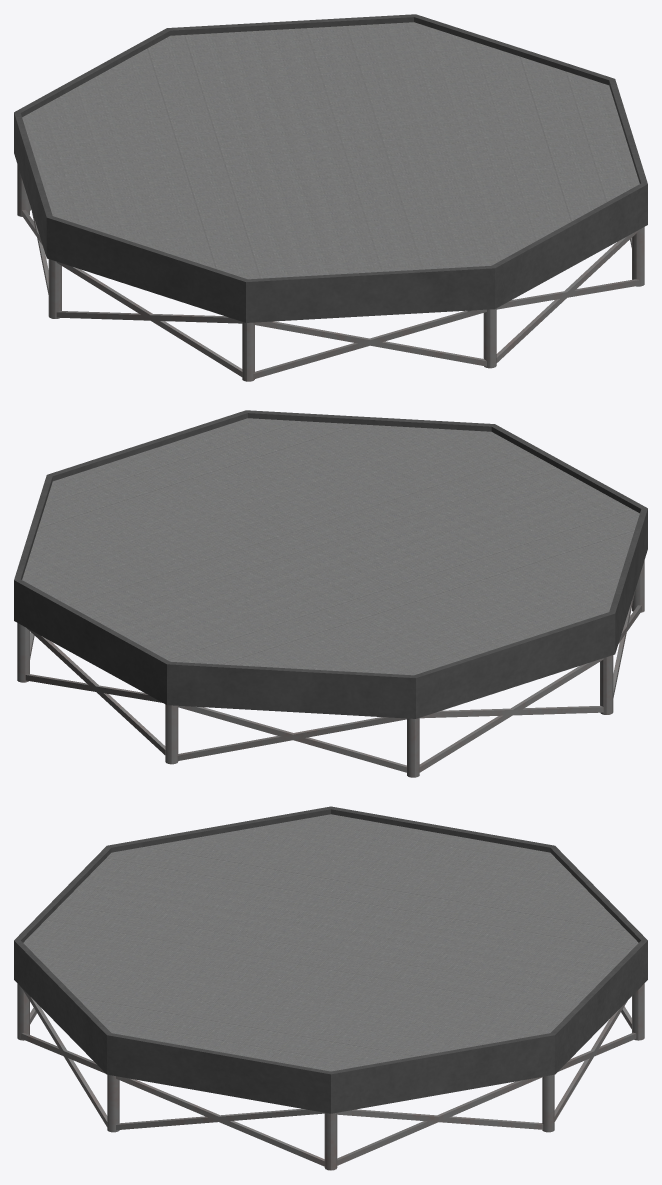
File: helipad.fbx
The picture shows the model from 3 angles, top to bottom: view 1: azimuth 30°, elevation 25°; view 2: azimuth 150°, elevation 25°; view 3: azimuth 270°, elevation 25°; orthographic projection. The views are drawn at different scales.
Parts seen in each view (by area): view 1: bake; view 2: bake; view 3: bake.
Part boxes in pixels (box(x1,y1,x2,y2)): bake: box(14, 14, 647, 381); bake: box(14, 410, 647, 777); bake: box(14, 806, 647, 1170).
Size of the model in its own units: 200 by 33.93 by 200.
Materials: 1 (1 with a texture image).
